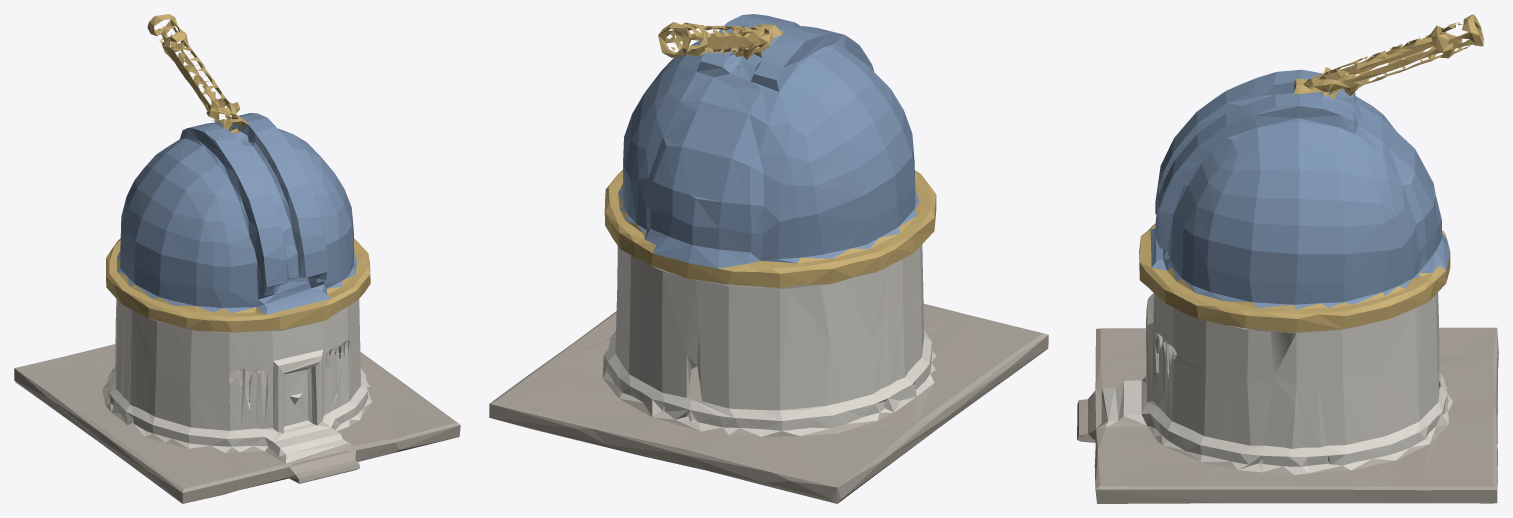
The picture shows the model from 3 angles, left to right: view 1: azimuth 30°, elevation 25°; view 2: azimuth 150°, elevation 25°; view 3: azimuth 270°, elevation 25°; orthographic projection. The views are drawn at different scales.
Visible parts, largest first — view 1: geometry_0; view 2: geometry_0; view 3: geometry_0.
Part boxes in pixels (<box>): geometry_0: <box>14,14,460,503</box>; geometry_0: <box>489,14,1048,503</box>; geometry_0: <box>1077,14,1498,503</box>.
Size of the model in its own units: 0.8536 by 1 by 0.9377.
